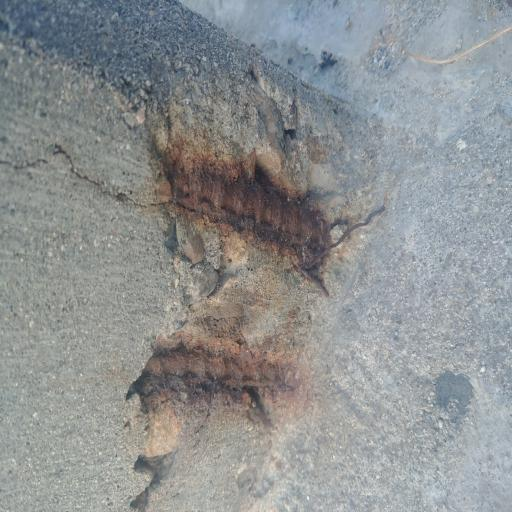exposed_rebar: (173, 172, 330, 260), (130, 350, 284, 395)
